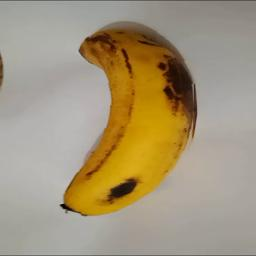Banana Semifresh: (55, 26, 197, 219)
